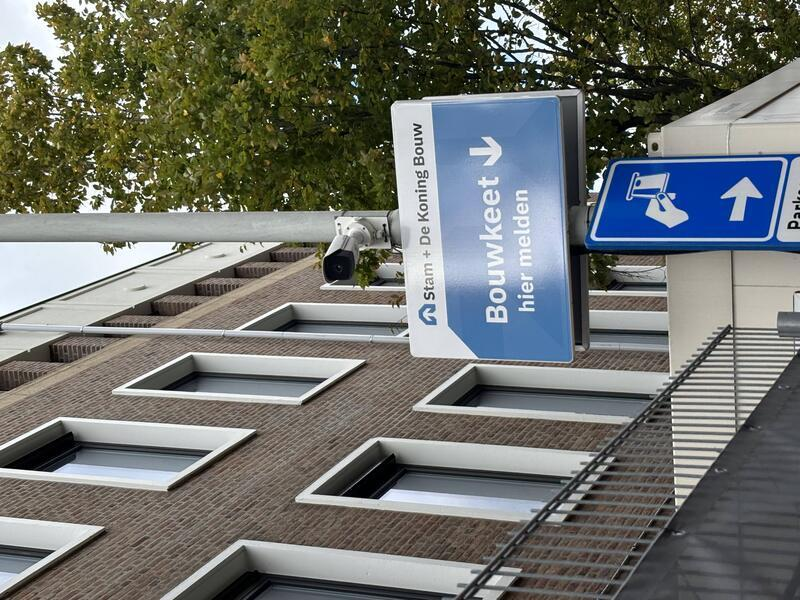bullet: (308, 316, 379, 368)
